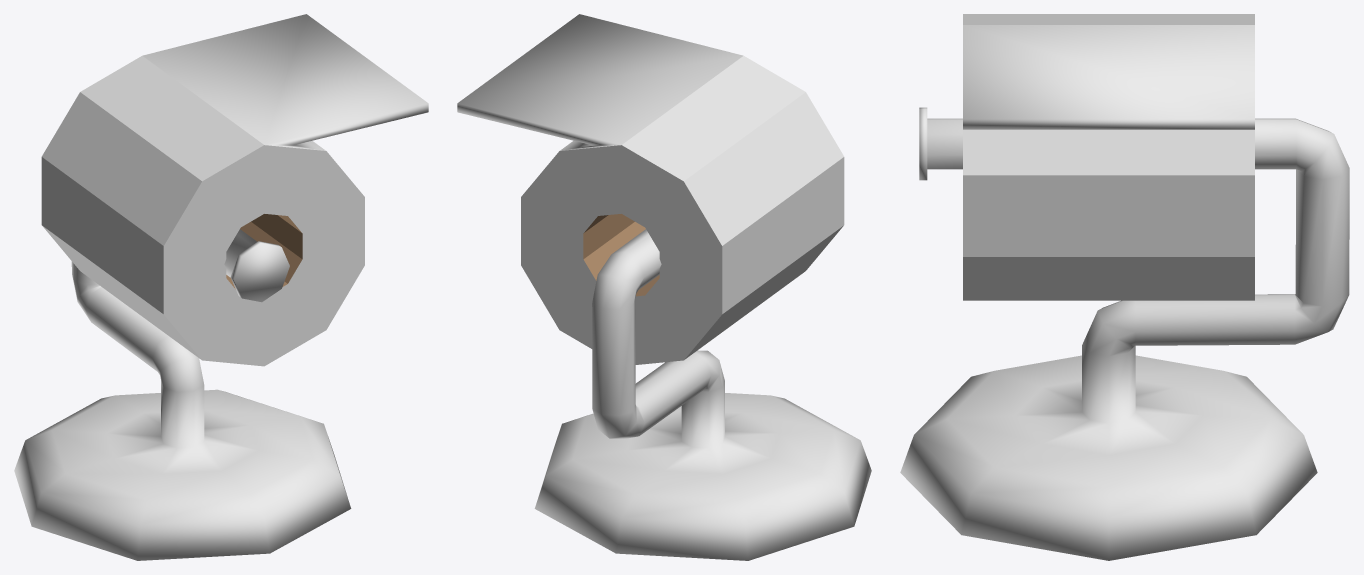
File: ApoioPapelHigienico.fbx
3 renders of one model, left to right at view 1: azimuth 30°, elevation 25°; view 2: azimuth 150°, elevation 25°; view 3: azimuth 270°, elevation 25°, orthographic. The views are drawn at different scales.
Parts seen in each view (by area): view 1: Cylinder, Circle; view 2: Cylinder, Circle; view 3: Circle, Cylinder.
Boxes of the visible parts, <box> form: Cylinder: <box>41,14,428,366</box>; Circle: <box>14,229,351,560</box>; Cylinder: <box>457,14,844,364</box>; Circle: <box>534,229,871,560</box>; Circle: <box>900,107,1349,560</box>; Cylinder: <box>963,14,1254,300</box>.
Bounding box in the file's own units: 41.31 × 45.33 × 40.
